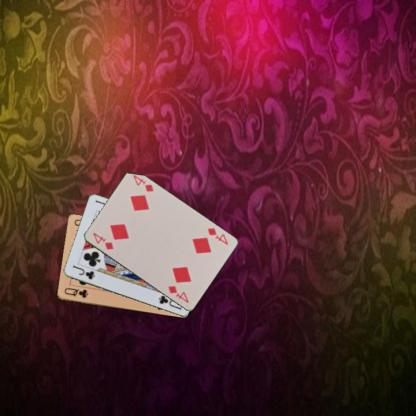4d: (204, 225, 230, 246), (90, 230, 115, 251)
Jc: (70, 262, 96, 281)
Qc: (62, 286, 89, 300)
